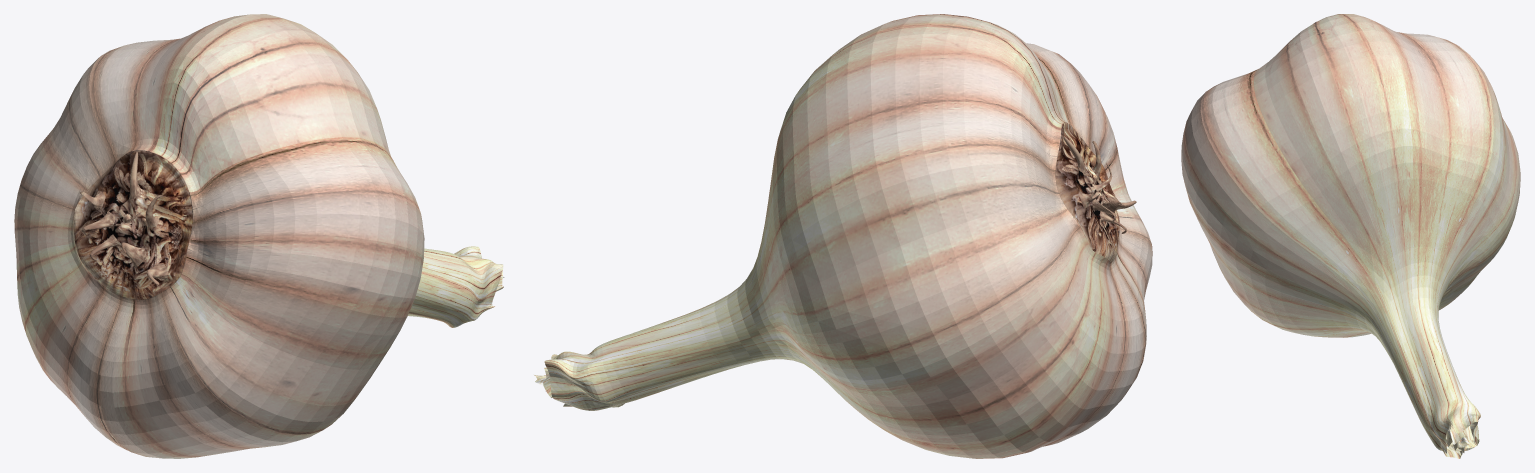
File: gar3d.glb
3 views of the same model, side by side, from view 1: azimuth 30°, elevation 25°; view 2: azimuth 150°, elevation 25°; view 3: azimuth 270°, elevation 25° (orthographic). The views are drawn at different scales.
Parts seen in each view (by area): view 1: C-skp7FE2; view 2: C-skp7FE2; view 3: C-skp7FE2.
Part boxes in pixels (bbox=[...]): C-skp7FE2: bbox=[14, 14, 504, 458]; C-skp7FE2: bbox=[534, 14, 1152, 458]; C-skp7FE2: bbox=[1181, 14, 1520, 458].
Bounding box in the file's own units: 3.09 × 2.34 × 2.28.
Materials: 1 (1 with a texture image).
